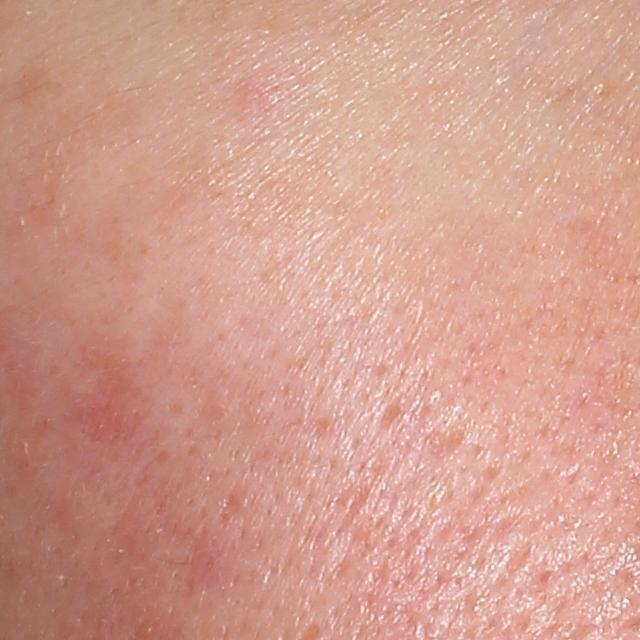atrophic_scar: (424, 424, 470, 461), (377, 398, 402, 431)
